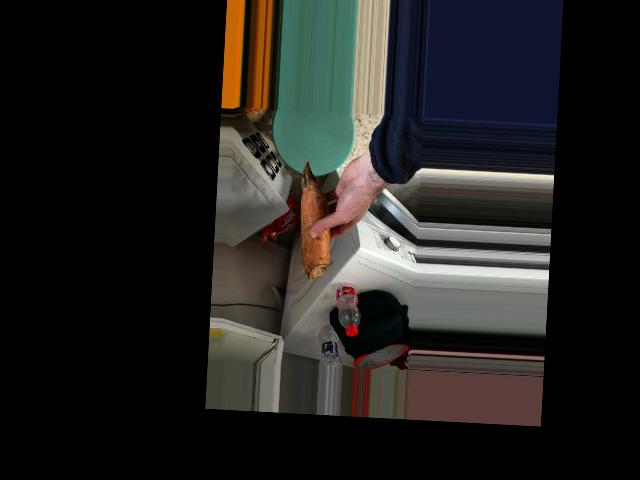sweet_potato: (298, 167, 336, 279)
